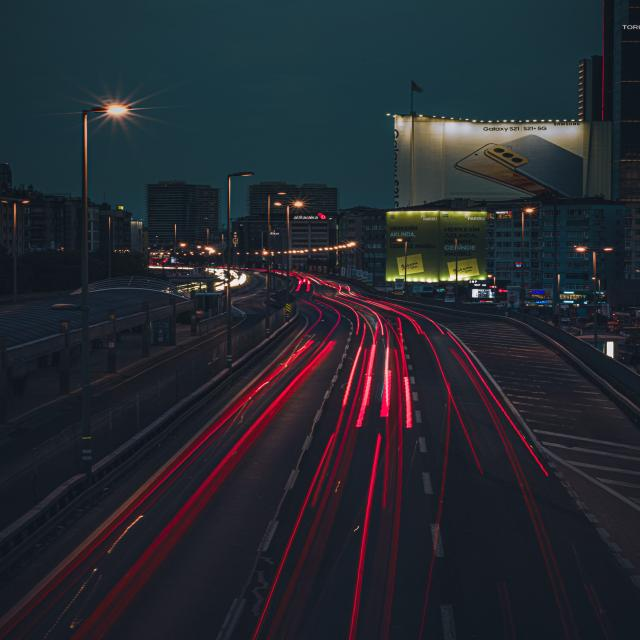Street Light: (78, 102, 133, 472), (226, 172, 254, 370), (575, 247, 615, 349), (273, 202, 303, 321), (265, 192, 286, 337), (1, 200, 28, 304), (521, 208, 535, 313), (351, 242, 376, 288), (397, 239, 408, 295)
